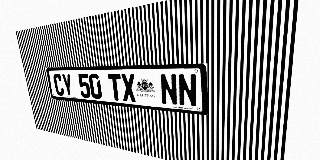0: (88, 74, 102, 99)
5: (78, 74, 91, 98)
C: (53, 74, 65, 96)
N: (177, 74, 197, 107), (159, 74, 178, 106)
T: (108, 74, 123, 101)
X: (121, 74, 137, 102)
Y: (61, 74, 74, 97)
